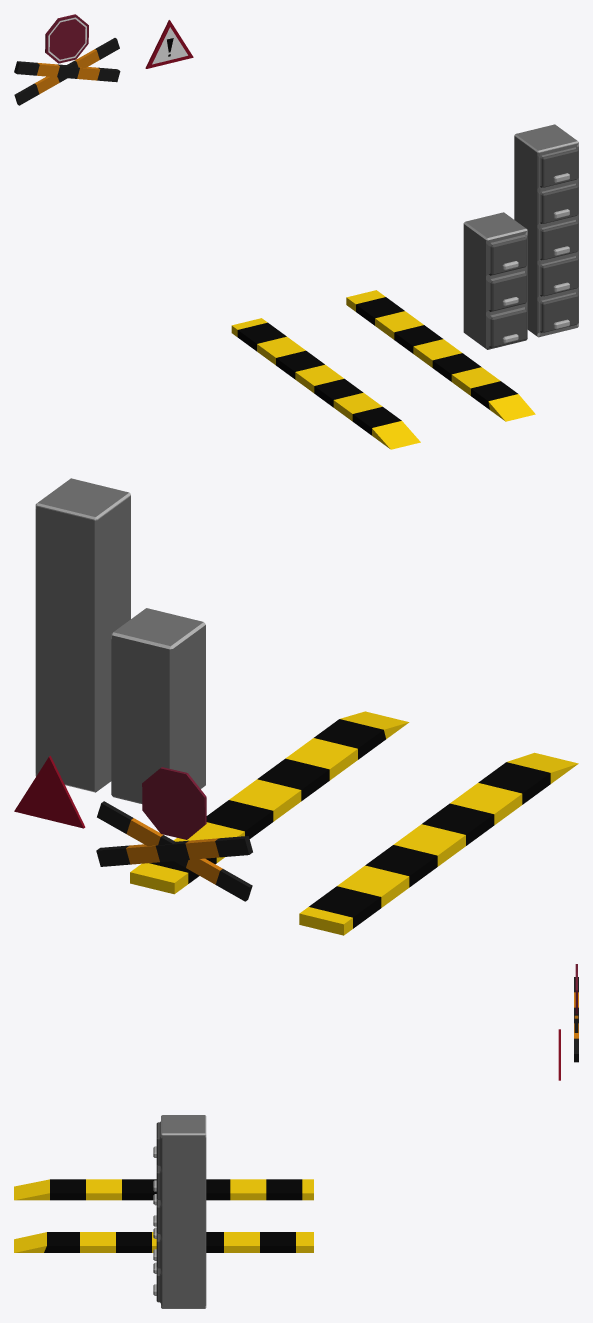
The model's file is elementegaraj.fbx.
3 renders of one model, top to bottom at view 1: azimuth 30°, elevation 25°; view 2: azimuth 150°, elevation 25°; view 3: azimuth 270°, elevation 25°, orthographic. The views are drawn at different scales.
Parts seen in each view (by area): view 1: Cube.024, Cube.029, Cube.023, Cube.022, Cube.027, Cylinder.016, Cylinder.017; view 2: Cube.024, Cube.029, Cube.022, Cube.023, Cube.027, Cylinder.016, Cylinder.017; view 3: Cube.024, Cube.022, Cube.023.
Boxes of the visible parts, left/top/right/bottom form: Cube.024: left=514, top=124, right=578, bottom=337; Cube.029: left=463, top=212, right=527, bottom=349; Cube.023: left=346, top=290, right=535, bottom=421; Cube.022: left=231, top=318, right=420, bottom=449; Cube.027: left=14, top=38, right=120, bottom=105; Cylinder.016: left=45, top=14, right=88, bottom=63; Cylinder.017: left=145, top=20, right=193, bottom=68; Cube.024: left=35, top=478, right=130, bottom=792; Cube.029: left=111, top=608, right=205, bottom=803; Cube.022: left=299, top=752, right=578, bottom=935; Cube.023: left=130, top=711, right=409, bottom=894; Cube.027: left=96, top=801, right=252, bottom=901; Cylinder.016: left=142, top=767, right=206, bottom=839; Cylinder.017: left=14, top=756, right=85, bottom=828; Cube.024: left=153, top=1115, right=206, bottom=1308; Cube.022: left=14, top=1179, right=313, bottom=1200; Cube.023: left=14, top=1232, right=313, bottom=1252.
Size of the model in its own units: 5.03 by 3.09 by 7.61.
